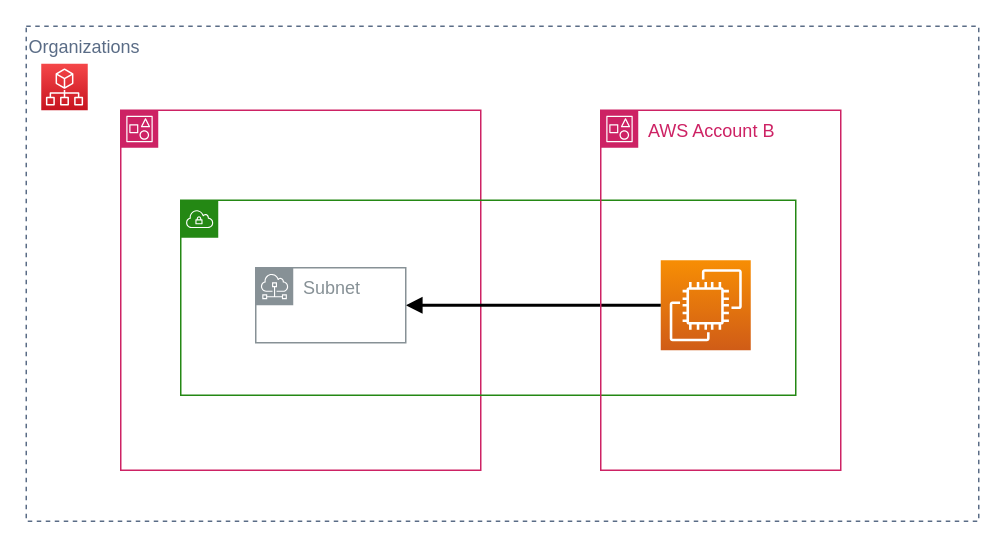
This 1005x548 diagram has some shape labels left out. Each missing label, with the box of its shape:
AWS Account A: (119, 109, 481, 470)
VPC: (179, 199, 796, 395)
